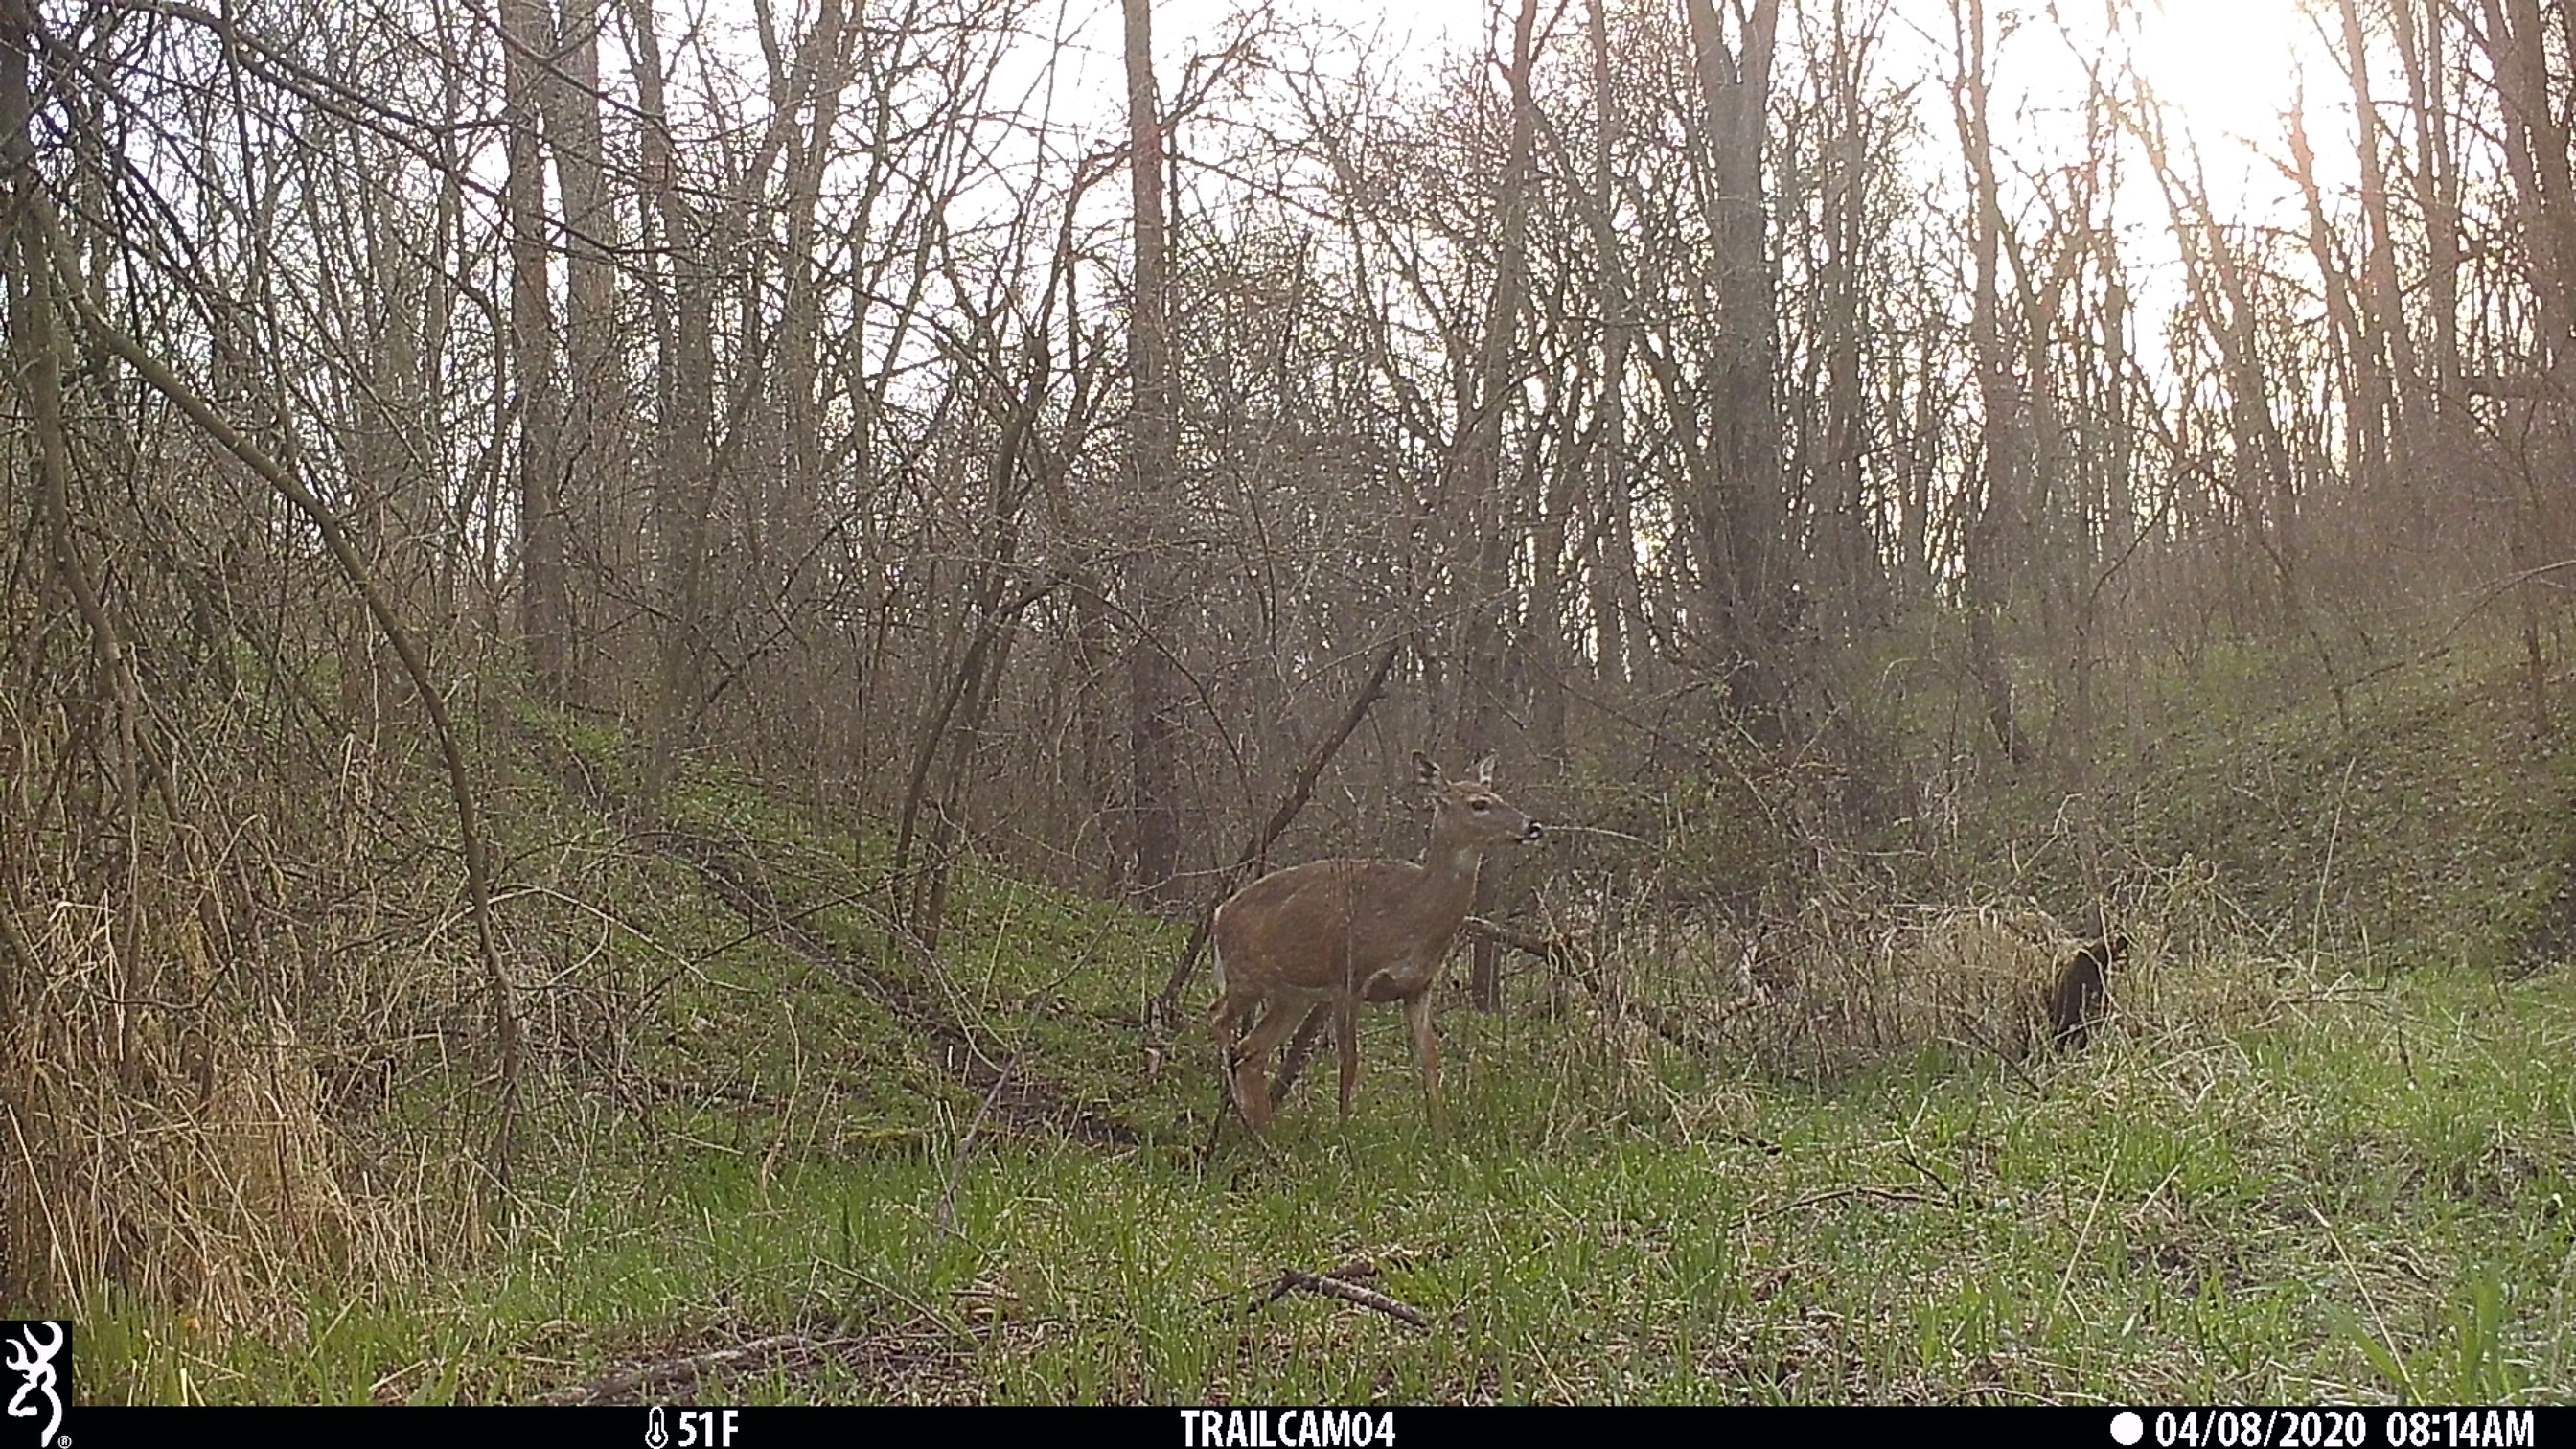DeerDoe: (1203, 747, 1545, 1131)
